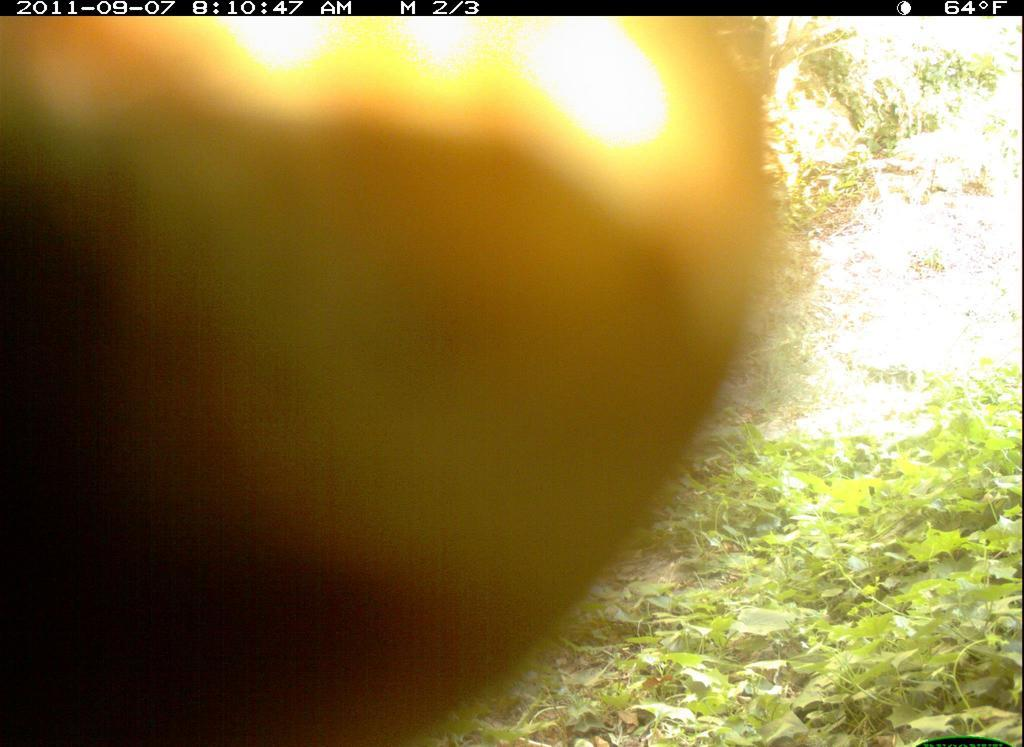squirrel: (4, 19, 769, 747)
